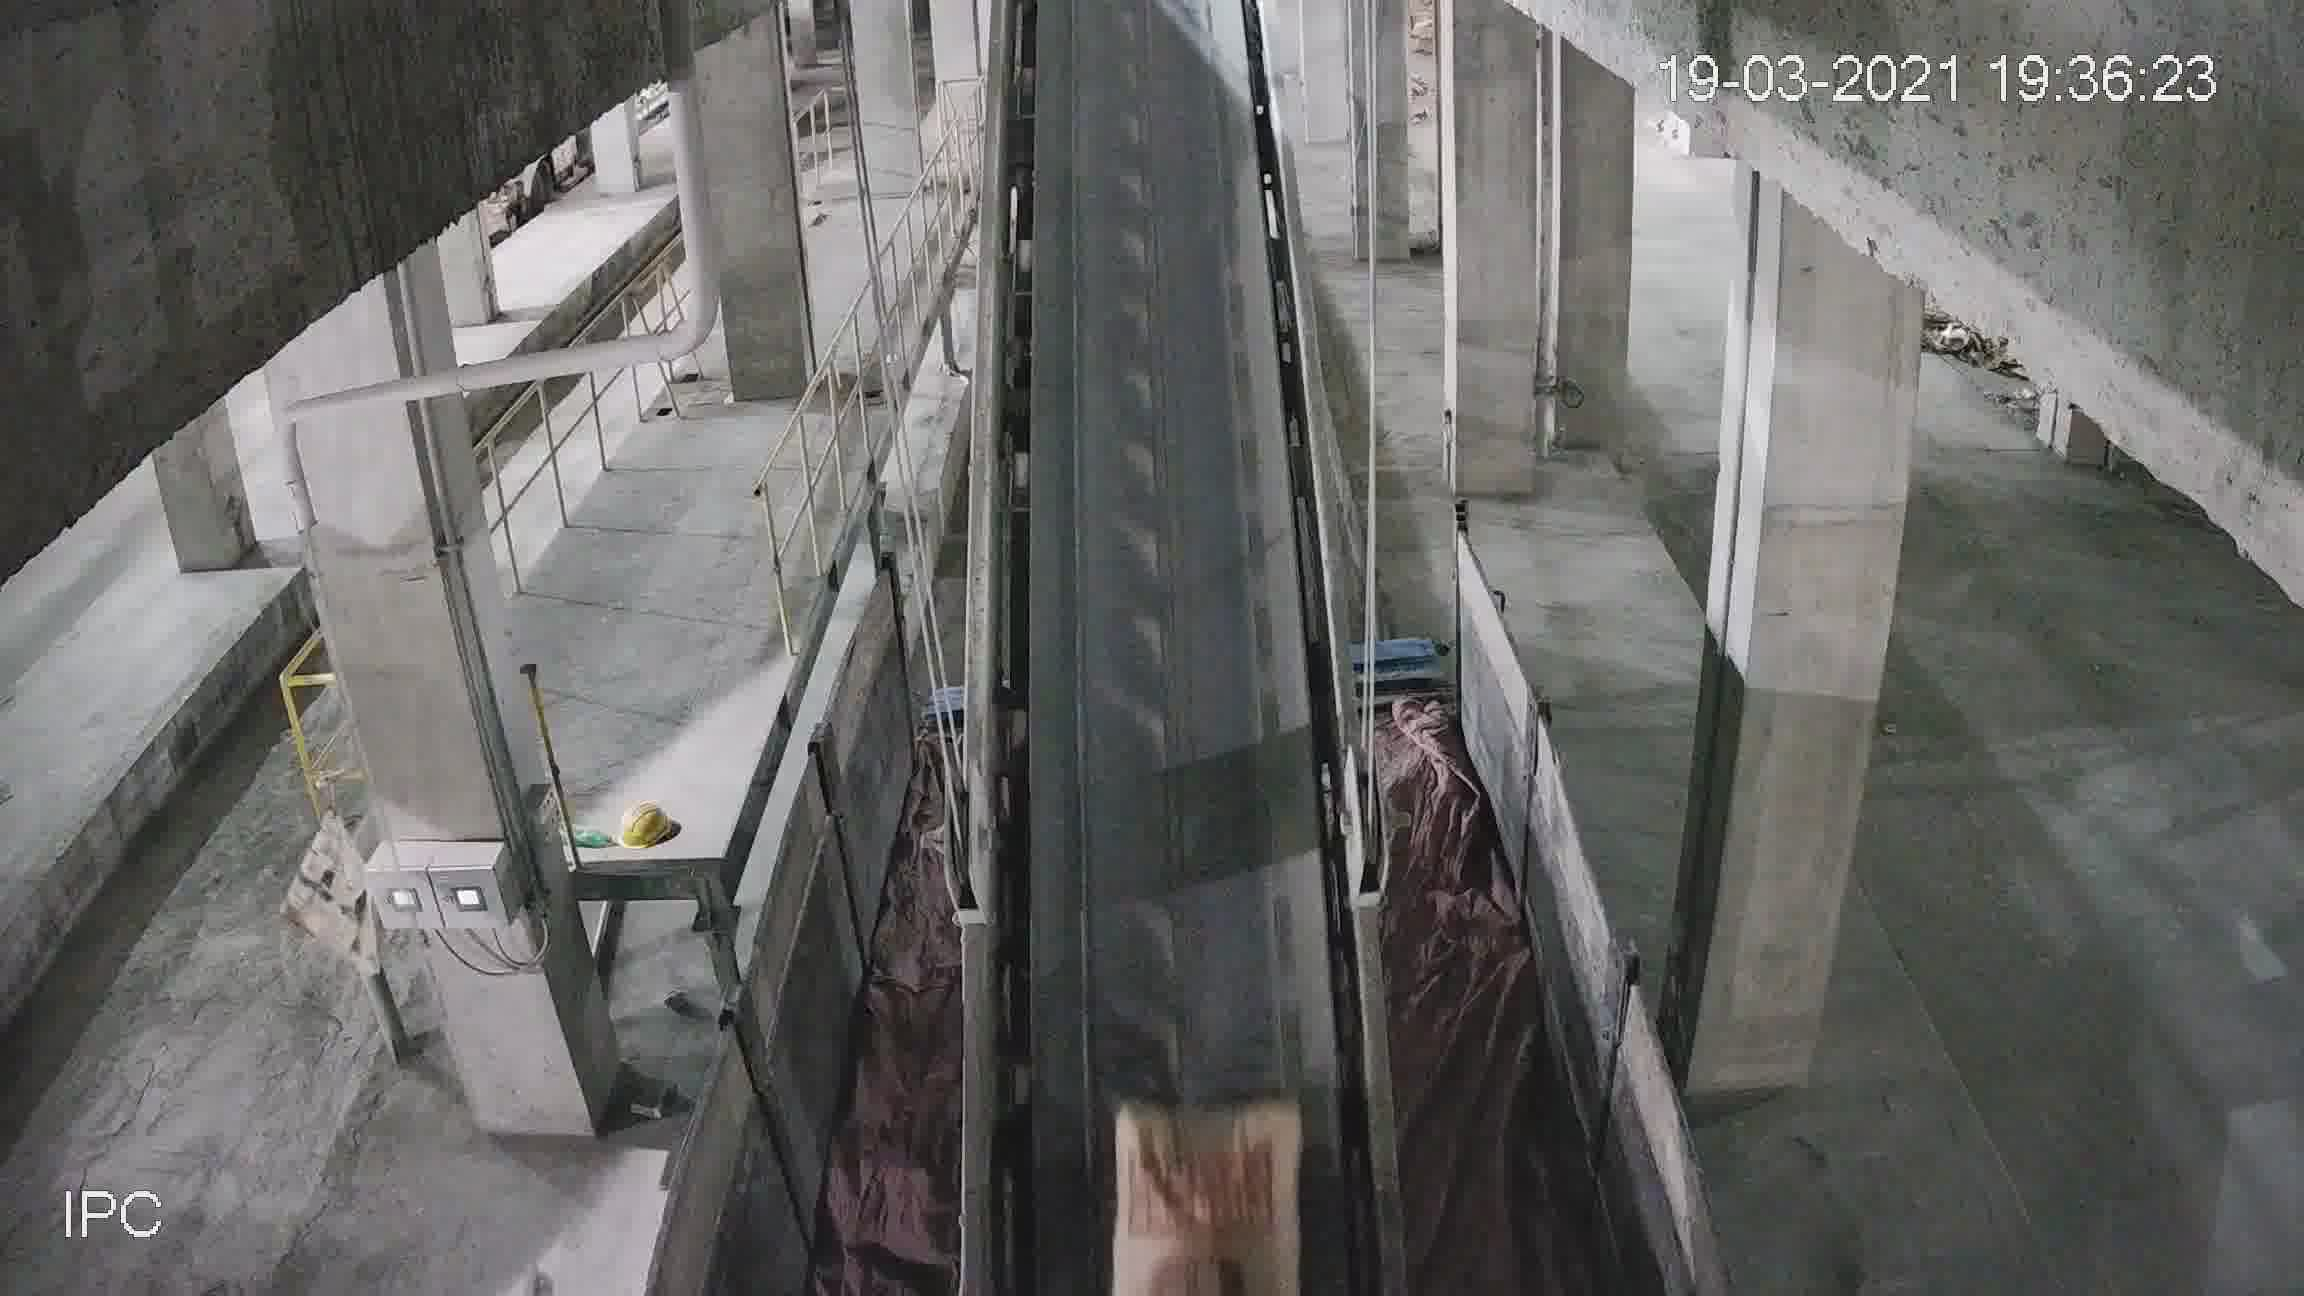bag: (1108, 1090, 1305, 1294)
belt: (954, 62, 1378, 1207)
